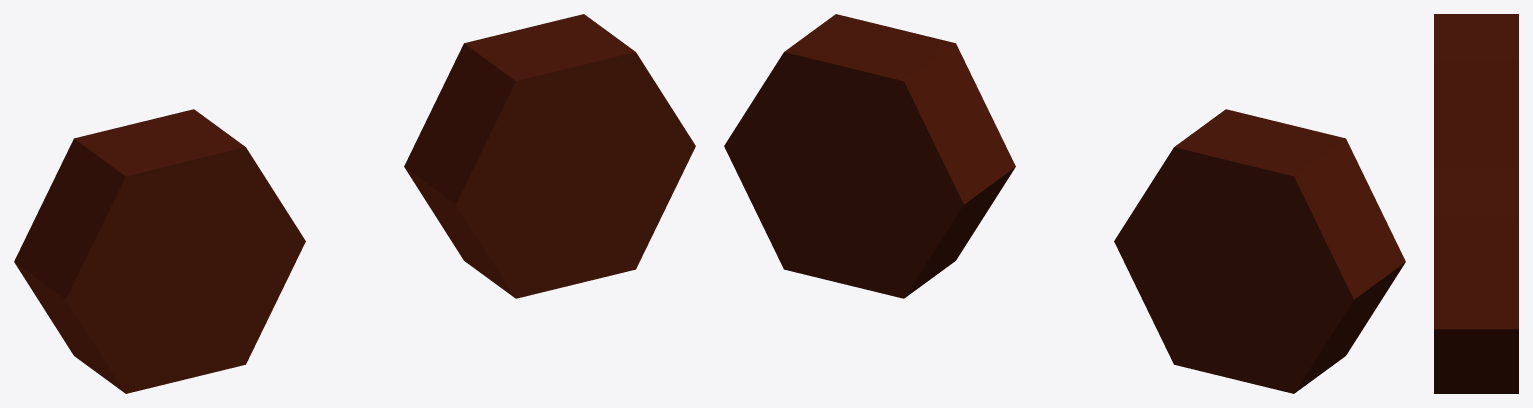
File: burn_twin_barrel_round.glb
The picture shows the model from 3 angles, left to right: view 1: azimuth 30°, elevation 25°; view 2: azimuth 150°, elevation 25°; view 3: azimuth 270°, elevation 25°; orthographic projection. The views are drawn at different scales.
Parts seen in each view (by area): view 1: burn_flame, burn_flame.001; view 2: burn_flame, burn_flame.001; view 3: burn_flame.001, burn_flame.
Boxes of the visible parts, left/top/right/bottom form: burn_flame: left=14, top=109, right=305, bottom=393; burn_flame.001: left=404, top=14, right=695, bottom=298; burn_flame: left=1114, top=109, right=1405, bottom=393; burn_flame.001: left=724, top=14, right=1015, bottom=298; burn_flame.001: left=1434, top=169, right=1518, bottom=393; burn_flame: left=1434, top=14, right=1518, bottom=168.
Bounding box in the file's own units: 8.4 × 2.77 × 1.2.
1 material, 1 textured.
